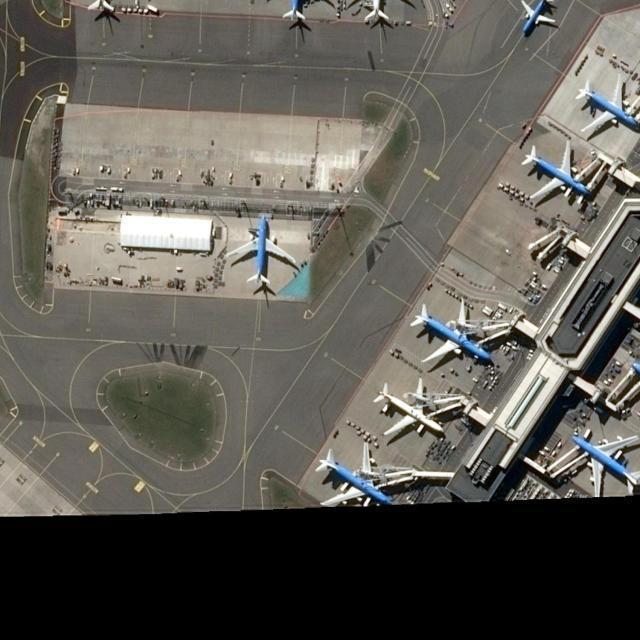Aircraft: (408, 297, 494, 367), (314, 442, 400, 508), (225, 215, 299, 289), (372, 379, 448, 443), (520, 139, 596, 202), (570, 432, 640, 498), (574, 77, 640, 135), (339, 0, 415, 28), (260, 0, 333, 26), (519, 0, 561, 38)
